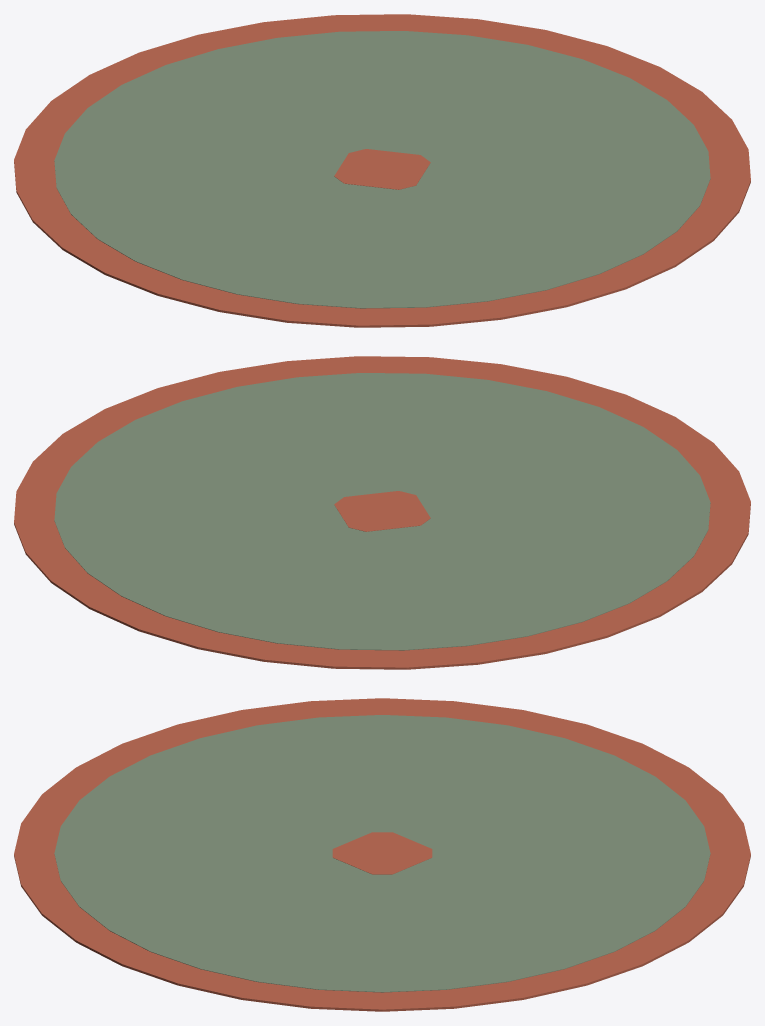
Rendered from terra-rug-round.glb.
The picture shows the model from 3 angles, top to bottom: view 1: azimuth 30°, elevation 25°; view 2: azimuth 150°, elevation 25°; view 3: azimuth 270°, elevation 25°; orthographic projection.
Visible parts, largest first — view 1: terra__rug_round; view 2: terra__rug_round; view 3: terra__rug_round.
Boxes of the visible parts, bbox=[...] form: terra__rug_round: bbox=[14, 14, 750, 327]; terra__rug_round: bbox=[14, 356, 750, 669]; terra__rug_round: bbox=[14, 698, 750, 1011].
Bounding box in the file's own units: 3.1 × 0.013 × 3.1.
